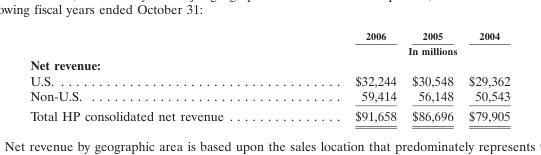table: (29, 29, 509, 123)
table column: (29, 29, 288, 123), (288, 29, 403, 123), (403, 29, 460, 123), (460, 29, 509, 123)
table column header: (29, 29, 509, 56)
table projected row header: (29, 56, 509, 72)
table row: (29, 87, 509, 105), (29, 105, 509, 123), (29, 56, 509, 72), (29, 72, 509, 87), (29, 42, 509, 56), (29, 29, 509, 42)
table spanning cell: (288, 42, 509, 56)
